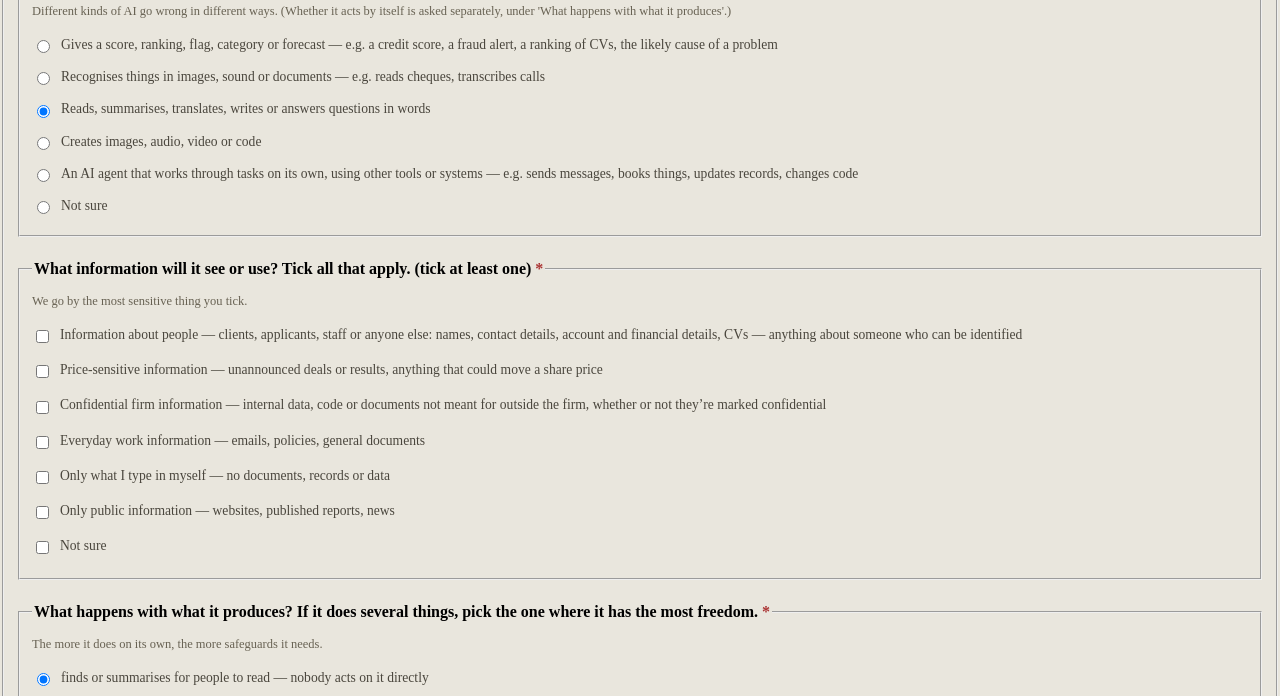
Test case: StructuredForm — CR6-06 (a stale single-select answer reads as unanswered) › TC-CR6-06e: a stale stored multi-select tick (Q5) leaves Continue disabled until re-picked
(page scrolled)
Click the 1st checkbox: {"x": 42, "y": 337} [36, 330, 49, 343]
(page scrolled)
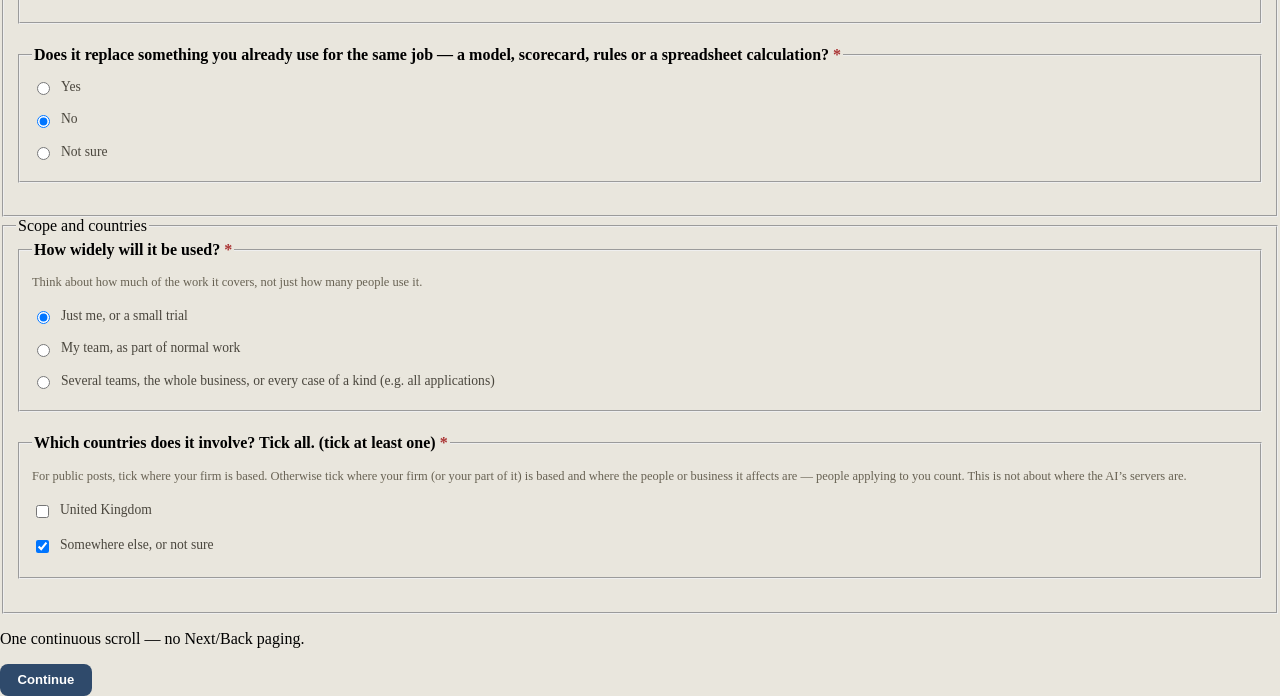
Result: the button "Continue" is enabled at [0, 664, 92, 695]
